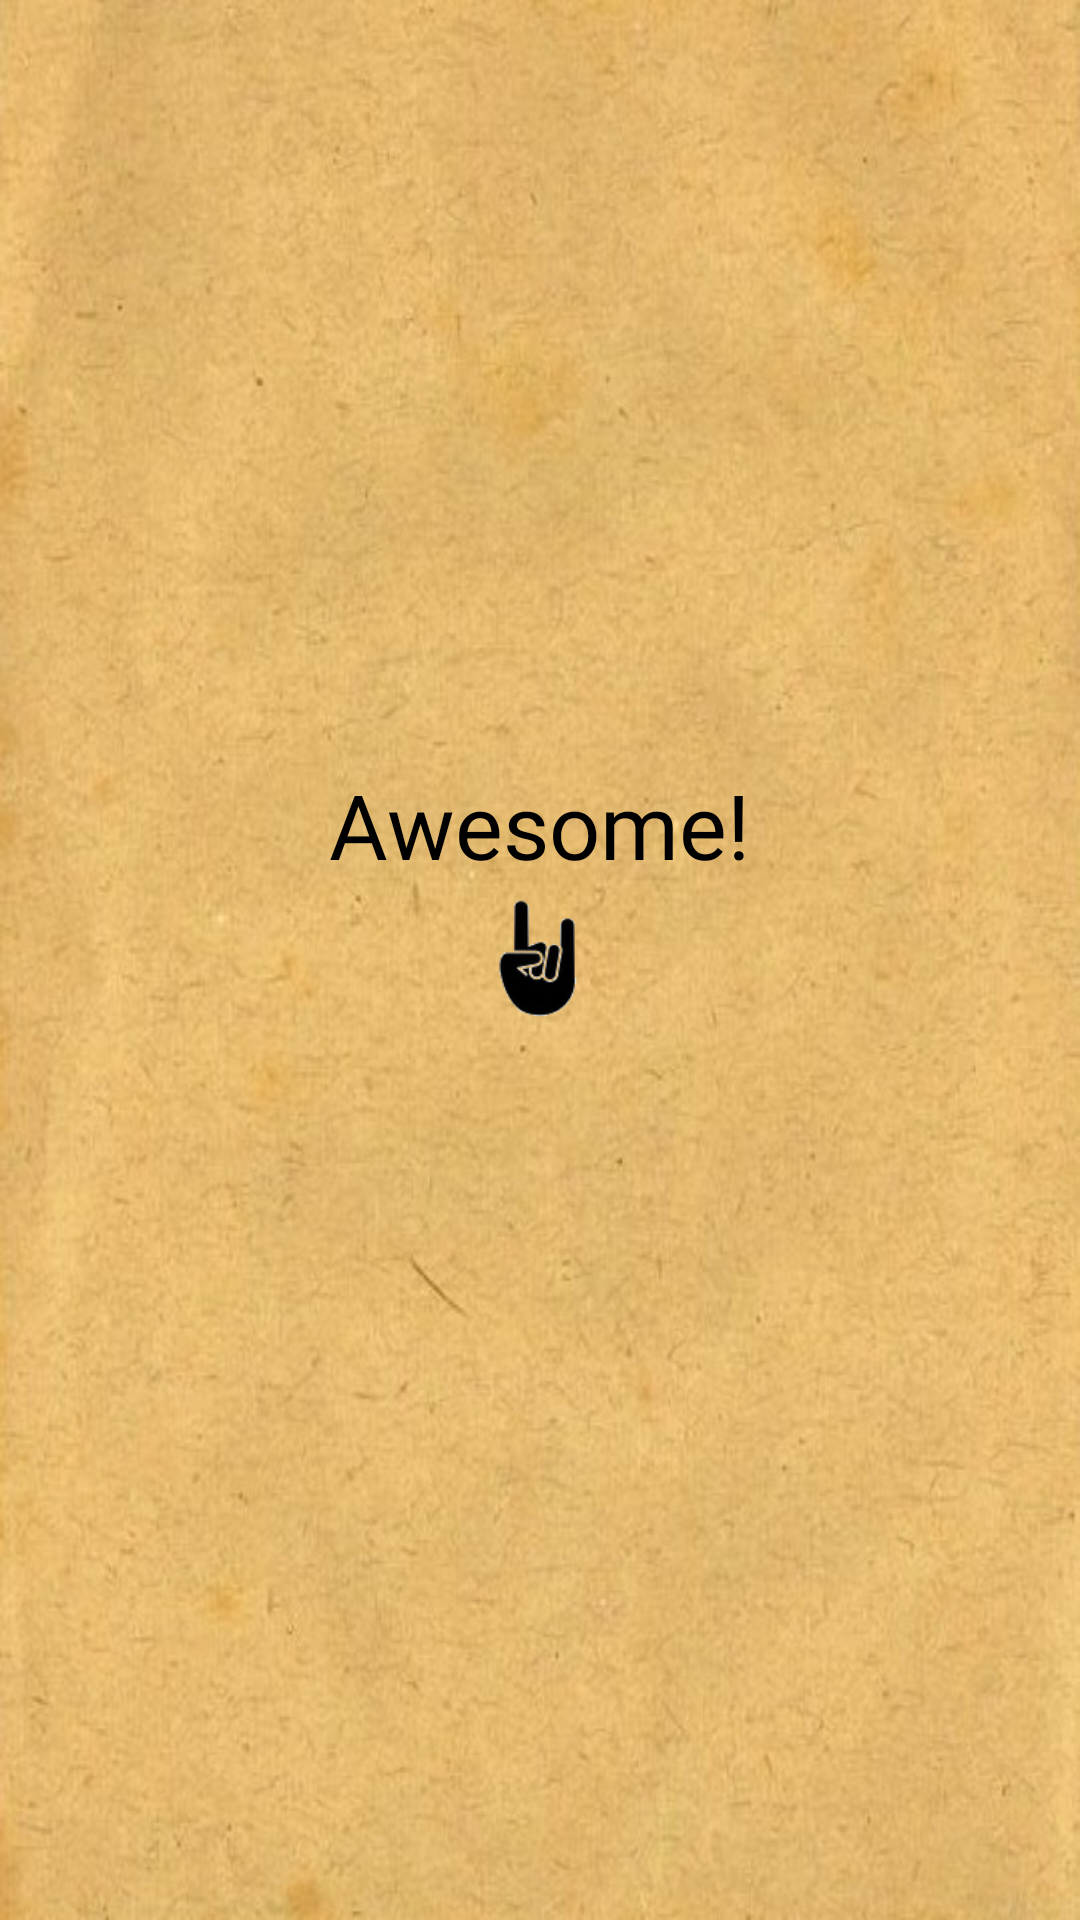

Named icons in this screenshot (1080x1920) and their centers, (x=x, y=y):
yeah: (x=538, y=958)
